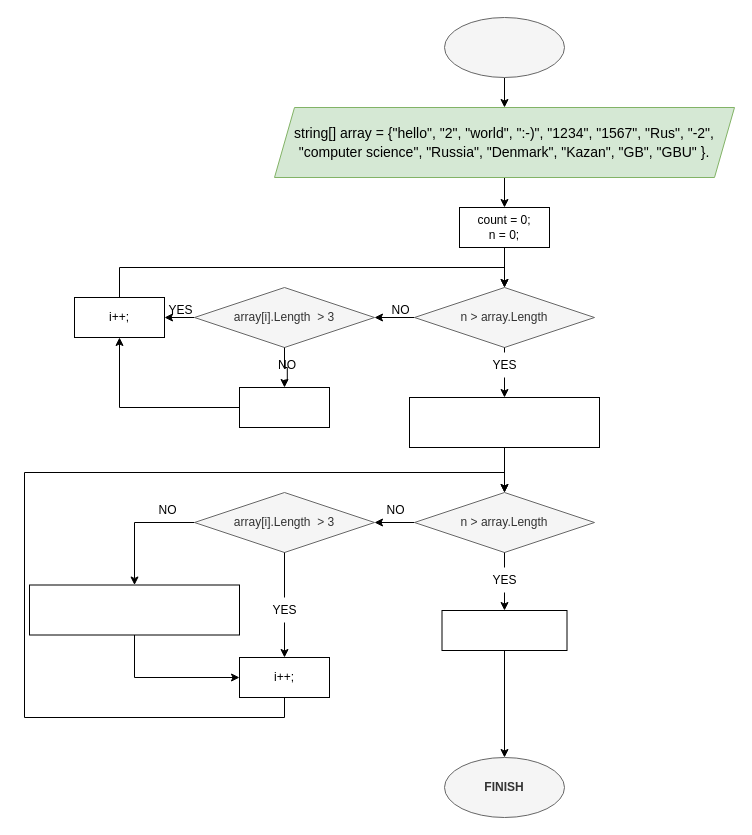
Image size: 752x835. Some labels were removed from this diagram. Each missing label, with the box of its shape:
count ++;: (238, 386, 330, 428)
PrintArray(resultArray): (441, 610, 567, 650)
result[result.Length - count] = array [i]; count--: (28, 584, 240, 635)
START: (444, 16, 564, 78)
string [] result = new srting [count]; i = 0: (408, 396, 600, 448)
